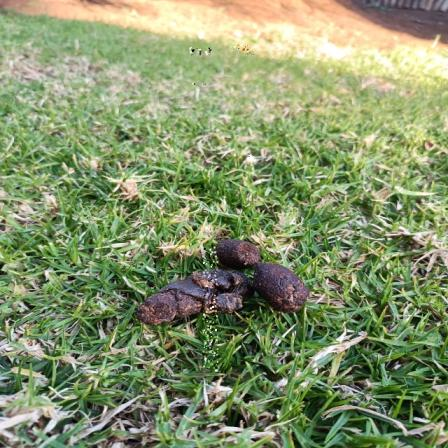dog-poop: (134, 225, 308, 326)
